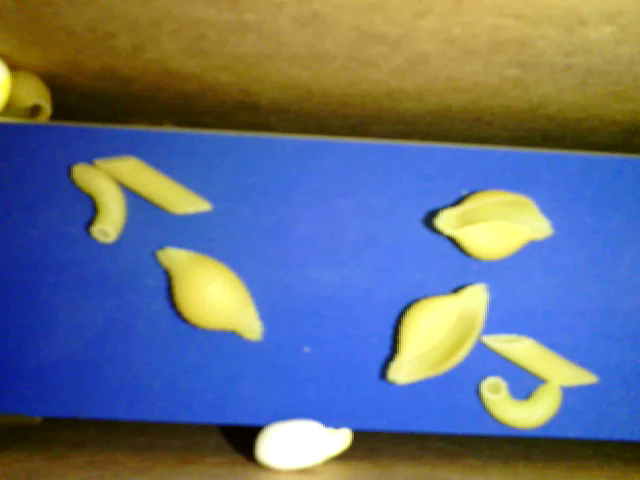elbow: (477, 375, 563, 429), (69, 163, 126, 244)
penne: (94, 153, 214, 217), (485, 331, 599, 390)
shell: (379, 279, 492, 388), (155, 247, 265, 342), (424, 185, 554, 261), (4, 68, 52, 130)
